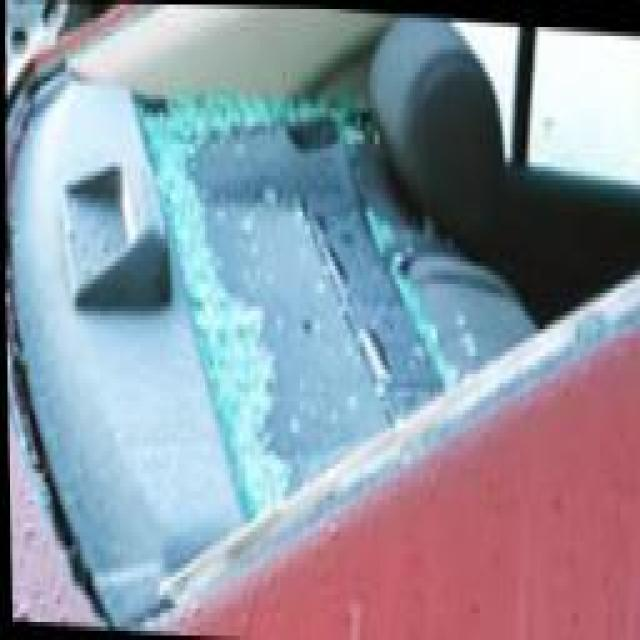replaceable: (22, 22, 640, 546)
